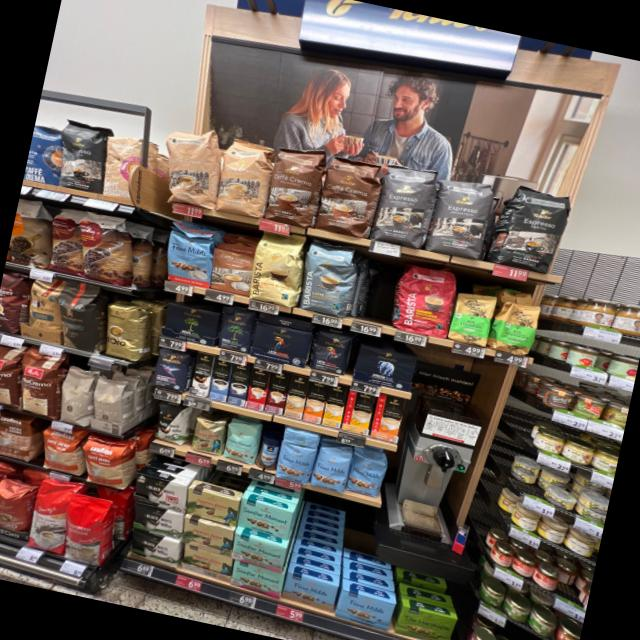AB Gemahlen: (351, 343, 417, 393)
Athiopien Bohne: (490, 298, 542, 360)
Athiopien Gemahlen: (448, 290, 497, 348)
BM Bohne: (214, 304, 256, 354)
BM Gemahlen: (159, 300, 220, 347)
BW Bohne: (150, 400, 190, 446)
BW Gemahlen: (128, 471, 190, 514), (123, 526, 183, 568), (128, 501, 187, 539)
Barista CB: (246, 228, 310, 308)
Barista CC: (296, 236, 358, 318)
Barista Kolumbien: (388, 260, 460, 341)
C Fino Bohne: (150, 346, 192, 393)
CC Mild: (152, 124, 226, 210), (210, 134, 276, 220)
CC Vollmundig: (208, 240, 258, 296)
CC Vollmundig 36 Pads: (312, 150, 384, 240), (260, 140, 328, 228)
Colombia BB Bohne: (188, 415, 228, 457)
Colombia BB Gemahlen: (181, 484, 241, 526), (178, 516, 237, 556), (180, 544, 236, 582)
Espresso Aromatisch: (424, 172, 496, 260), (370, 160, 440, 248)
Espresso Kraftig: (494, 180, 574, 276)
FM 36 Pads: (160, 230, 218, 288)
FM Bohne: (310, 445, 354, 494), (346, 451, 390, 499), (272, 441, 318, 486)
FM Gemahlen: (334, 588, 398, 634), (281, 570, 340, 612)
FM Instant: (256, 434, 283, 472)
Herzhatfe Mundig: (393, 603, 459, 640)
LG Bohne: (308, 328, 354, 377)
LG Gemahlen: (246, 320, 312, 368)
SM Bohne: (221, 417, 263, 466)
SM Gemahlen: (228, 530, 288, 574), (236, 496, 296, 540), (228, 558, 286, 598)
Simo CCMild: (340, 389, 376, 435)
Simo CCMild bigpack: (322, 384, 348, 428)
Simo CCVollmundig: (369, 392, 405, 442)
Simo CCVollmundig bigpack: (302, 380, 329, 424)
Simo Decaff: (282, 373, 310, 419)
Simo Es Brazil: (244, 366, 272, 410)
Simo Es Caramel: (264, 371, 290, 415)
Simo Es Elegant: (188, 351, 214, 397)
Simo Es Kraft: (227, 363, 250, 407)
Simo Es Vanilla: (208, 357, 232, 402)
